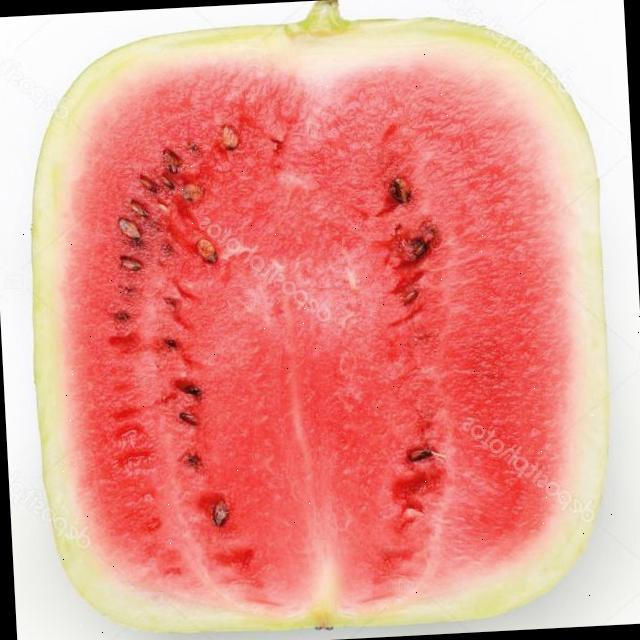watermelon: (7, 4, 640, 640)
